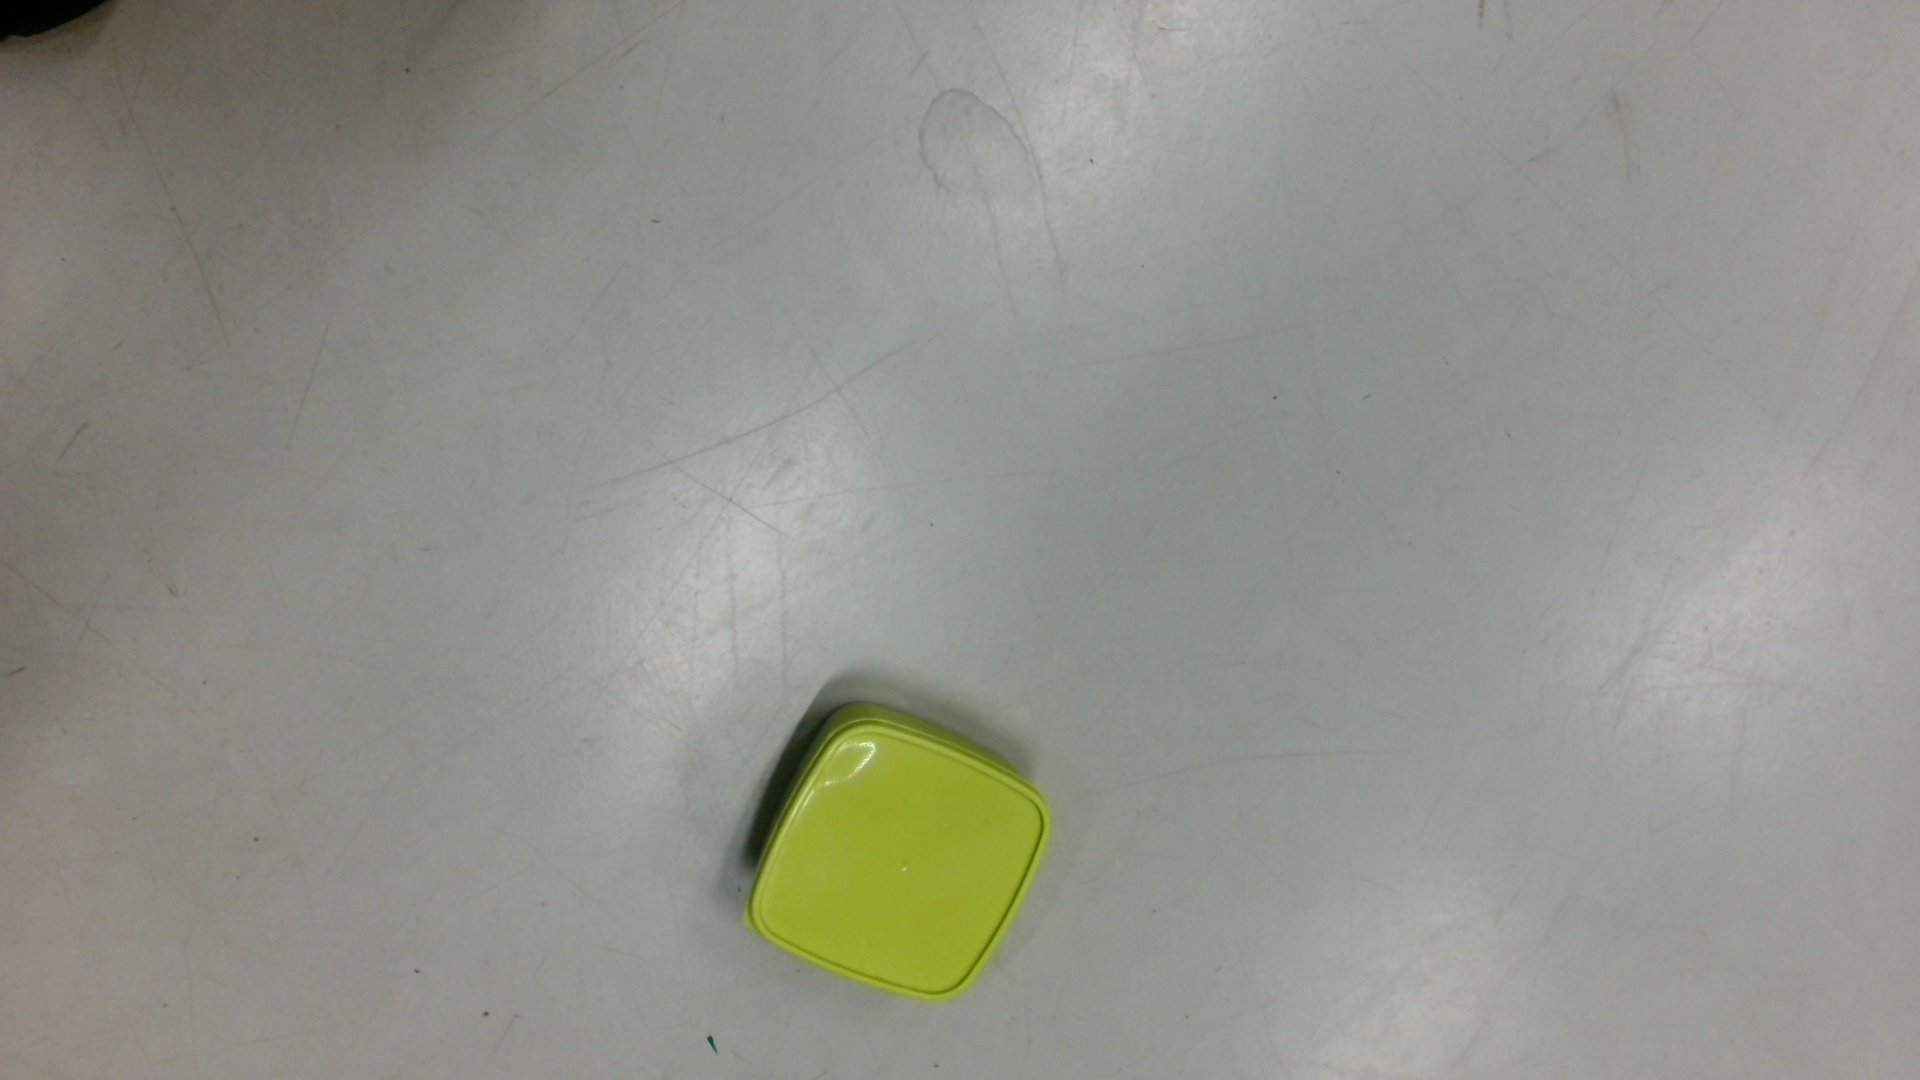Box: (737, 698, 1059, 1005)
